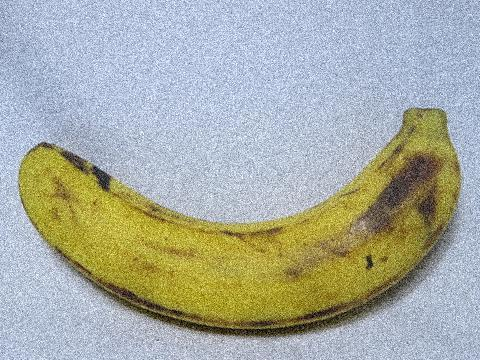overripe: (7, 88, 476, 339)
